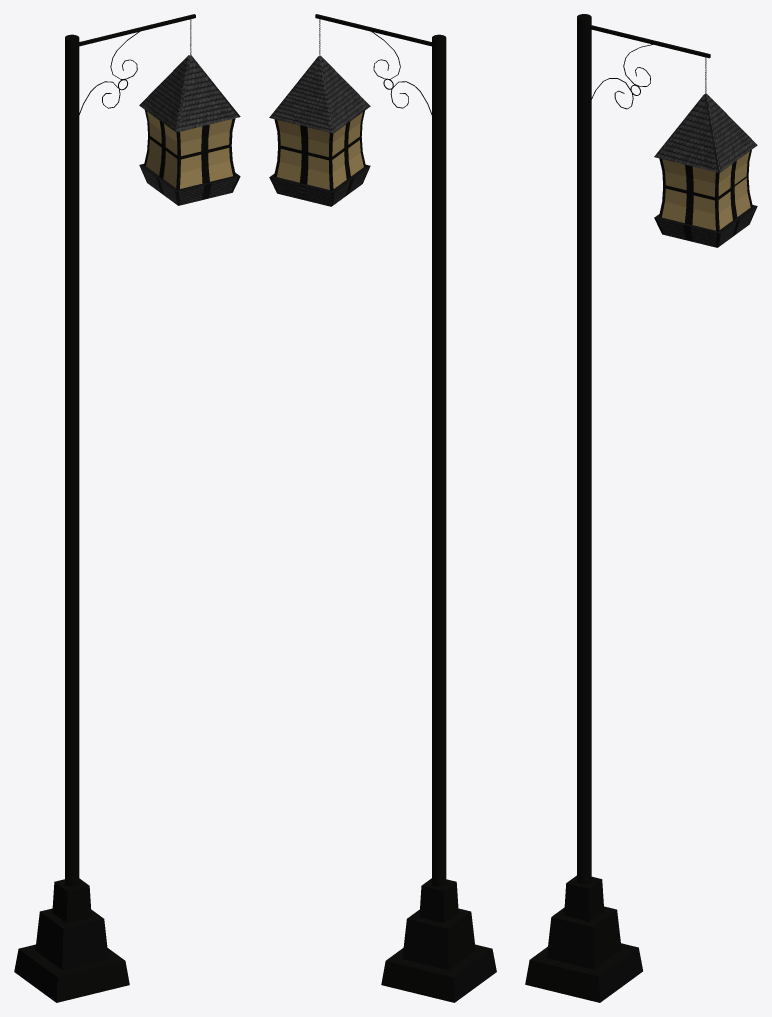
Rendered from Lamp.obj.
3 views of the same model, side by side, from view 1: azimuth 30°, elevation 25°; view 2: azimuth 150°, elevation 25°; view 3: azimuth 330°, elevation 25° (orthographic). The views are drawn at different scales.
Visible parts, largest first — view 1: Cube.002; view 2: Cube.002; view 3: Cube.002.
Part boxes in pixels (left/top/right/bottom): Cube.002: left=14, top=14, right=240, bottom=1002; Cube.002: left=269, top=14, right=496, bottom=1002; Cube.002: left=525, top=14, right=757, bottom=1002.
Size of the model in its own units: 1.21 by 5.8 by 0.4733.
Materials: 3 (1 with a texture image).
